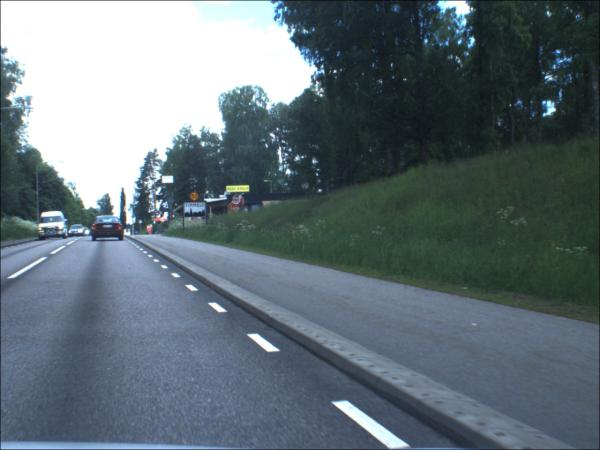50_SIGN: (192, 194, 202, 203)
